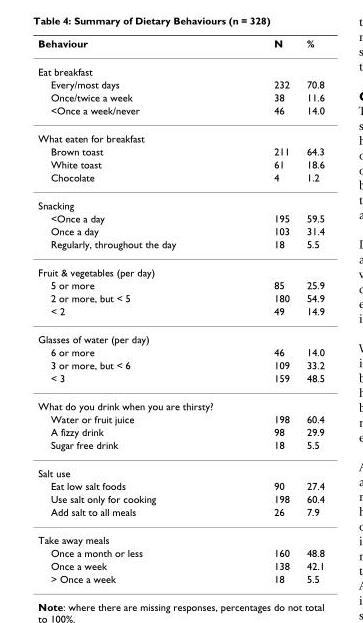table: (37, 36, 323, 584)
table column: (37, 36, 242, 584), (242, 36, 297, 584), (297, 36, 323, 584)
table column header: (37, 36, 323, 57)
table projected row header: (37, 123, 323, 144), (37, 190, 323, 211), (37, 257, 323, 278), (37, 324, 323, 345), (37, 391, 323, 412), (37, 458, 323, 479), (37, 525, 323, 546), (37, 57, 323, 77)
table row: (37, 36, 323, 57), (37, 123, 323, 144), (37, 190, 323, 211), (37, 257, 323, 278), (37, 324, 323, 345), (37, 391, 323, 412), (37, 458, 323, 479), (37, 504, 323, 525), (37, 525, 323, 546), (37, 57, 323, 77), (37, 103, 323, 123), (37, 170, 323, 190), (37, 237, 323, 257), (37, 304, 323, 324), (37, 371, 323, 391), (37, 438, 323, 458), (37, 77, 323, 90), (37, 90, 323, 103), (37, 144, 323, 157), (37, 157, 323, 170), (37, 211, 323, 224), (37, 224, 323, 237), (37, 278, 323, 291), (37, 291, 323, 304), (37, 345, 323, 358), (37, 358, 323, 371), (37, 412, 323, 425), (37, 425, 323, 438), (37, 479, 323, 492), (37, 558, 323, 571), (37, 571, 323, 584), (37, 492, 323, 504), (37, 546, 323, 558)
